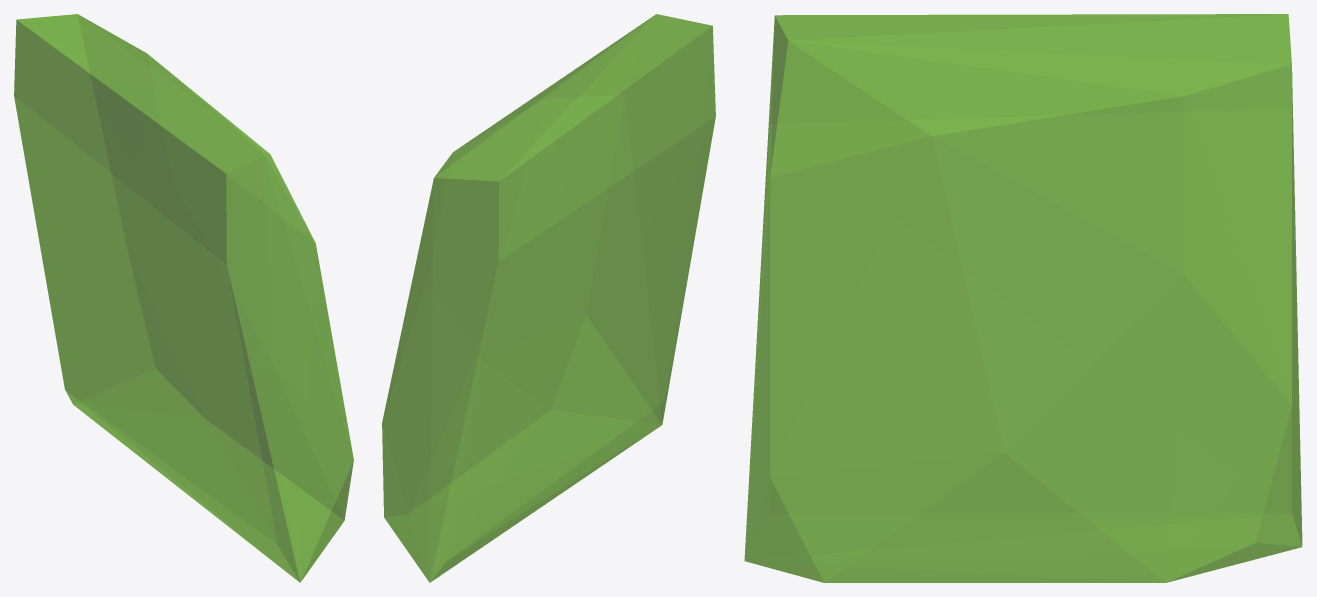
3 views of the same model, side by side, from view 1: azimuth 30°, elevation 25°; view 2: azimuth 150°, elevation 25°; view 3: azimuth 270°, elevation 25° (orthographic). The views are drawn at different scales.
Visible parts, largest first — view 1: Shape_IndexedFaceSet.104_Shape_IndexedFaceSet.145; view 2: Shape_IndexedFaceSet.104_Shape_IndexedFaceSet.145; view 3: Shape_IndexedFaceSet.104_Shape_IndexedFaceSet.145.
Part boxes in pixels (box(x1,y1,x2,y2)): Shape_IndexedFaceSet.104_Shape_IndexedFaceSet.145: box(14, 14, 353, 582); Shape_IndexedFaceSet.104_Shape_IndexedFaceSet.145: box(382, 14, 715, 582); Shape_IndexedFaceSet.104_Shape_IndexedFaceSet.145: box(744, 14, 1302, 582).
Bounding box in the file's own units: 0.0843 × 0.2413 × 0.2378.
